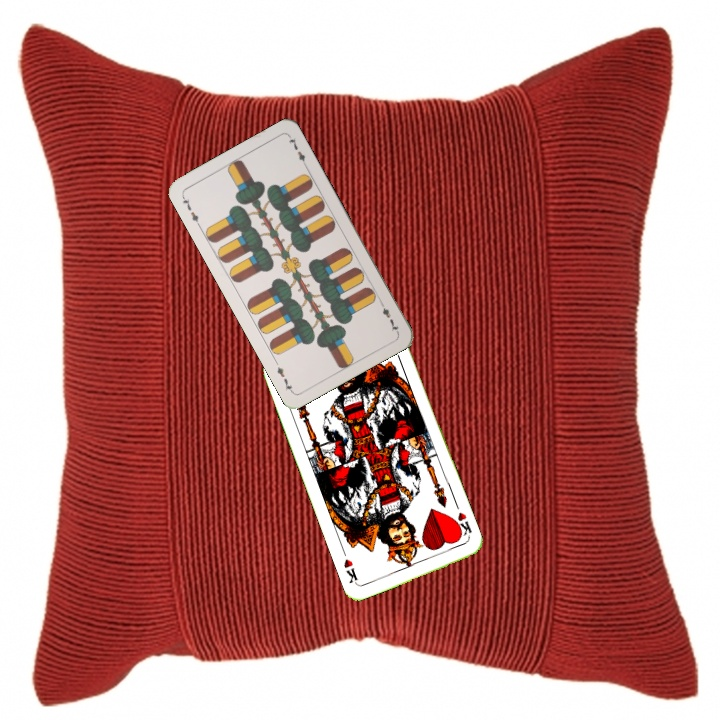E7: (376, 297, 401, 335), (178, 192, 203, 229)
HK: (450, 508, 474, 543)
